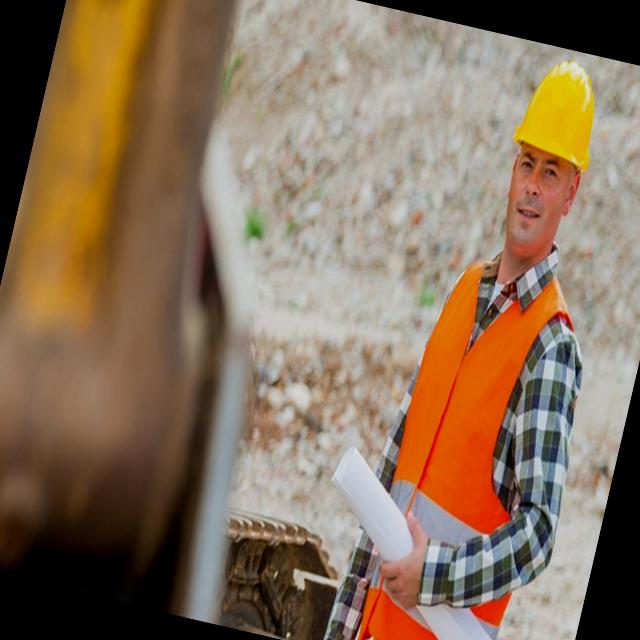helmet: (500, 52, 615, 173)
vest: (344, 234, 588, 640)
